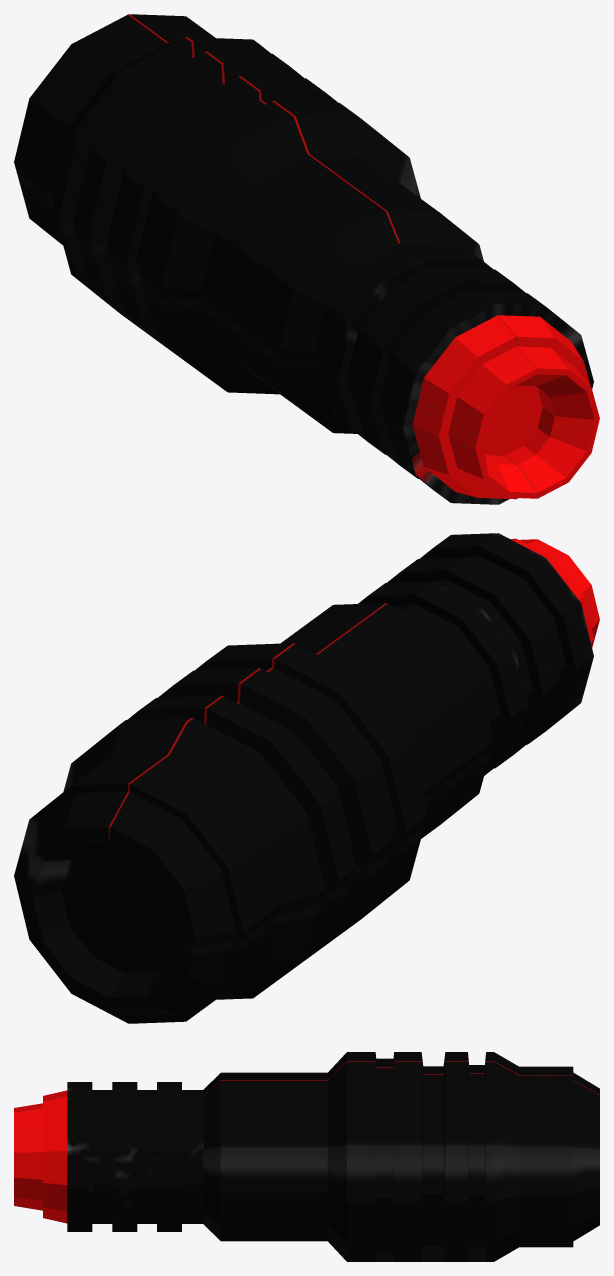
File: Cañon3.fbx
The picture shows the model from 3 angles, top to bottom: view 1: azimuth 30°, elevation 25°; view 2: azimuth 150°, elevation 25°; view 3: azimuth 270°, elevation 25°; orthographic projection. The views are drawn at different scales.
Parts seen in each view (by area): view 1: pCylinder3; view 2: pCylinder3; view 3: pCylinder3.
Boxes of the visible parts, left/top/right/bottom form: pCylinder3: left=14, top=14, right=599, bottom=504; pCylinder3: left=14, top=533, right=599, bottom=1023; pCylinder3: left=14, top=1052, right=599, bottom=1261.
Size of the model in its own units: 2.99 by 2.99 by 8.32.
